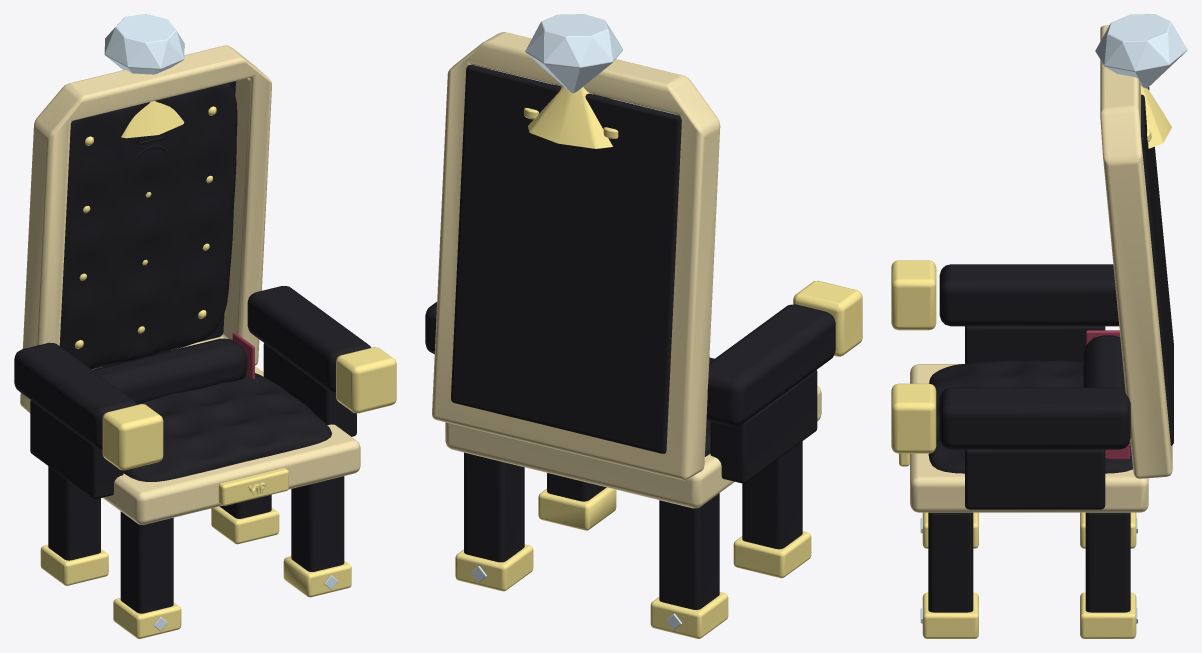
File: BlackDiamondVIPChair_Baked.fbx
3 views of the same model, side by side, from view 1: azimuth 30°, elevation 25°; view 2: azimuth 150°, elevation 25°; view 3: azimuth 270°, elevation 25° (orthographic). The views are drawn at different scales.
Parts seen in each view (by area): view 1: BlackDiamondVIPChair_Baked; view 2: BlackDiamondVIPChair_Baked; view 3: BlackDiamondVIPChair_Baked.
Boxes of the visible parts, bbox=[...] form: BlackDiamondVIPChair_Baked: bbox=[14, 14, 396, 638]; BlackDiamondVIPChair_Baked: bbox=[425, 14, 862, 638]; BlackDiamondVIPChair_Baked: bbox=[891, 14, 1187, 638].
Bounding box in the file's own units: 1.24 × 2.2 × 1.06.
